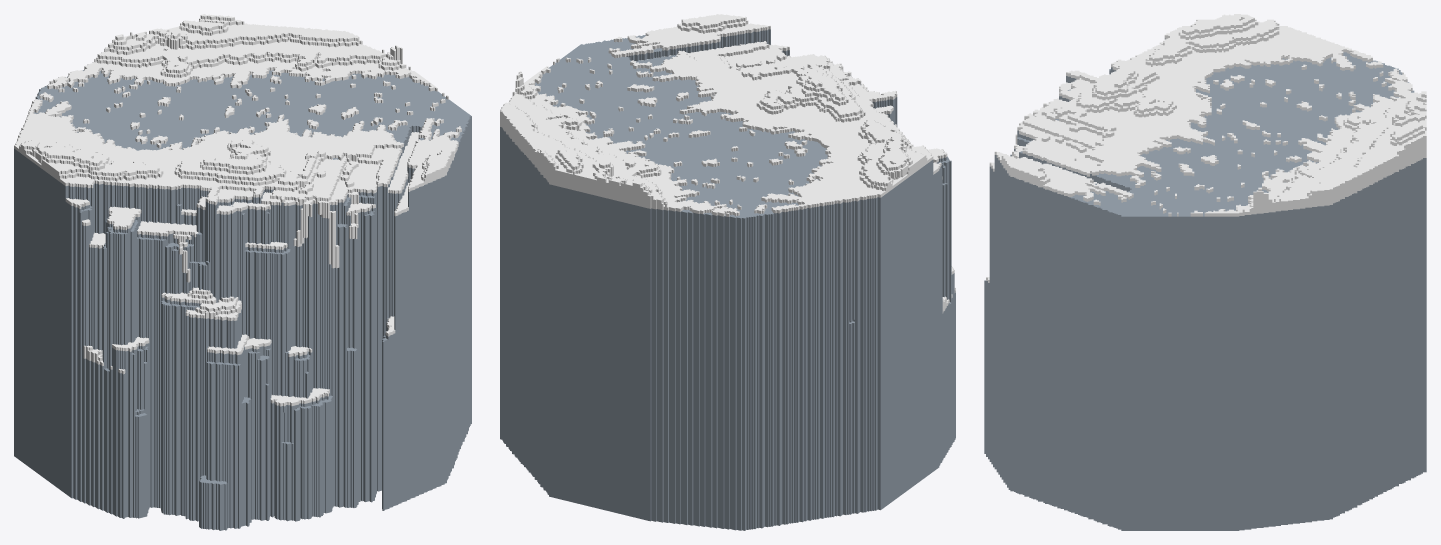
File: factory4.1-23.obj
The picture shows the model from 3 angles, left to right: view 1: azimuth 30°, elevation 25°; view 2: azimuth 150°, elevation 25°; view 3: azimuth 270°, elevation 25°; orthographic projection. The views are drawn at different scales.
Size of the model in its own units: 25.6 by 21.4 by 25.5.
1 material, 1 textured.
